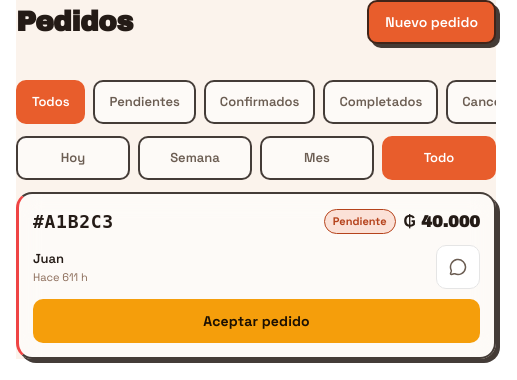
Test: OrdersPage (REQ: incoming orders panel) › handleStatusChange: en éxito no muestra toast
The width and height of the screenshot is (517, 380).
Check: the text "#A1B2C3" is shown, box [33,211,114,232]
What coordinates should you click on to do the following:
click the button "Aceptar pedido"
I would click on:
 (256, 321)
Its box is [33,299,480,343].
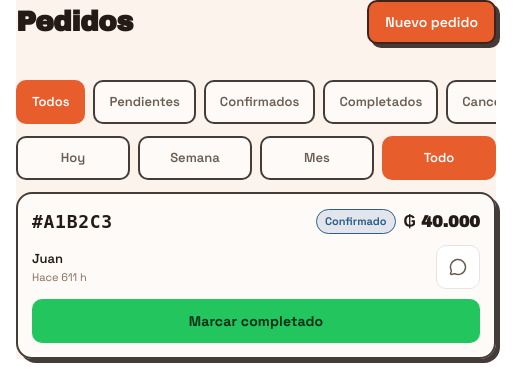
Check: the button "Aceptar pedido" is gone
